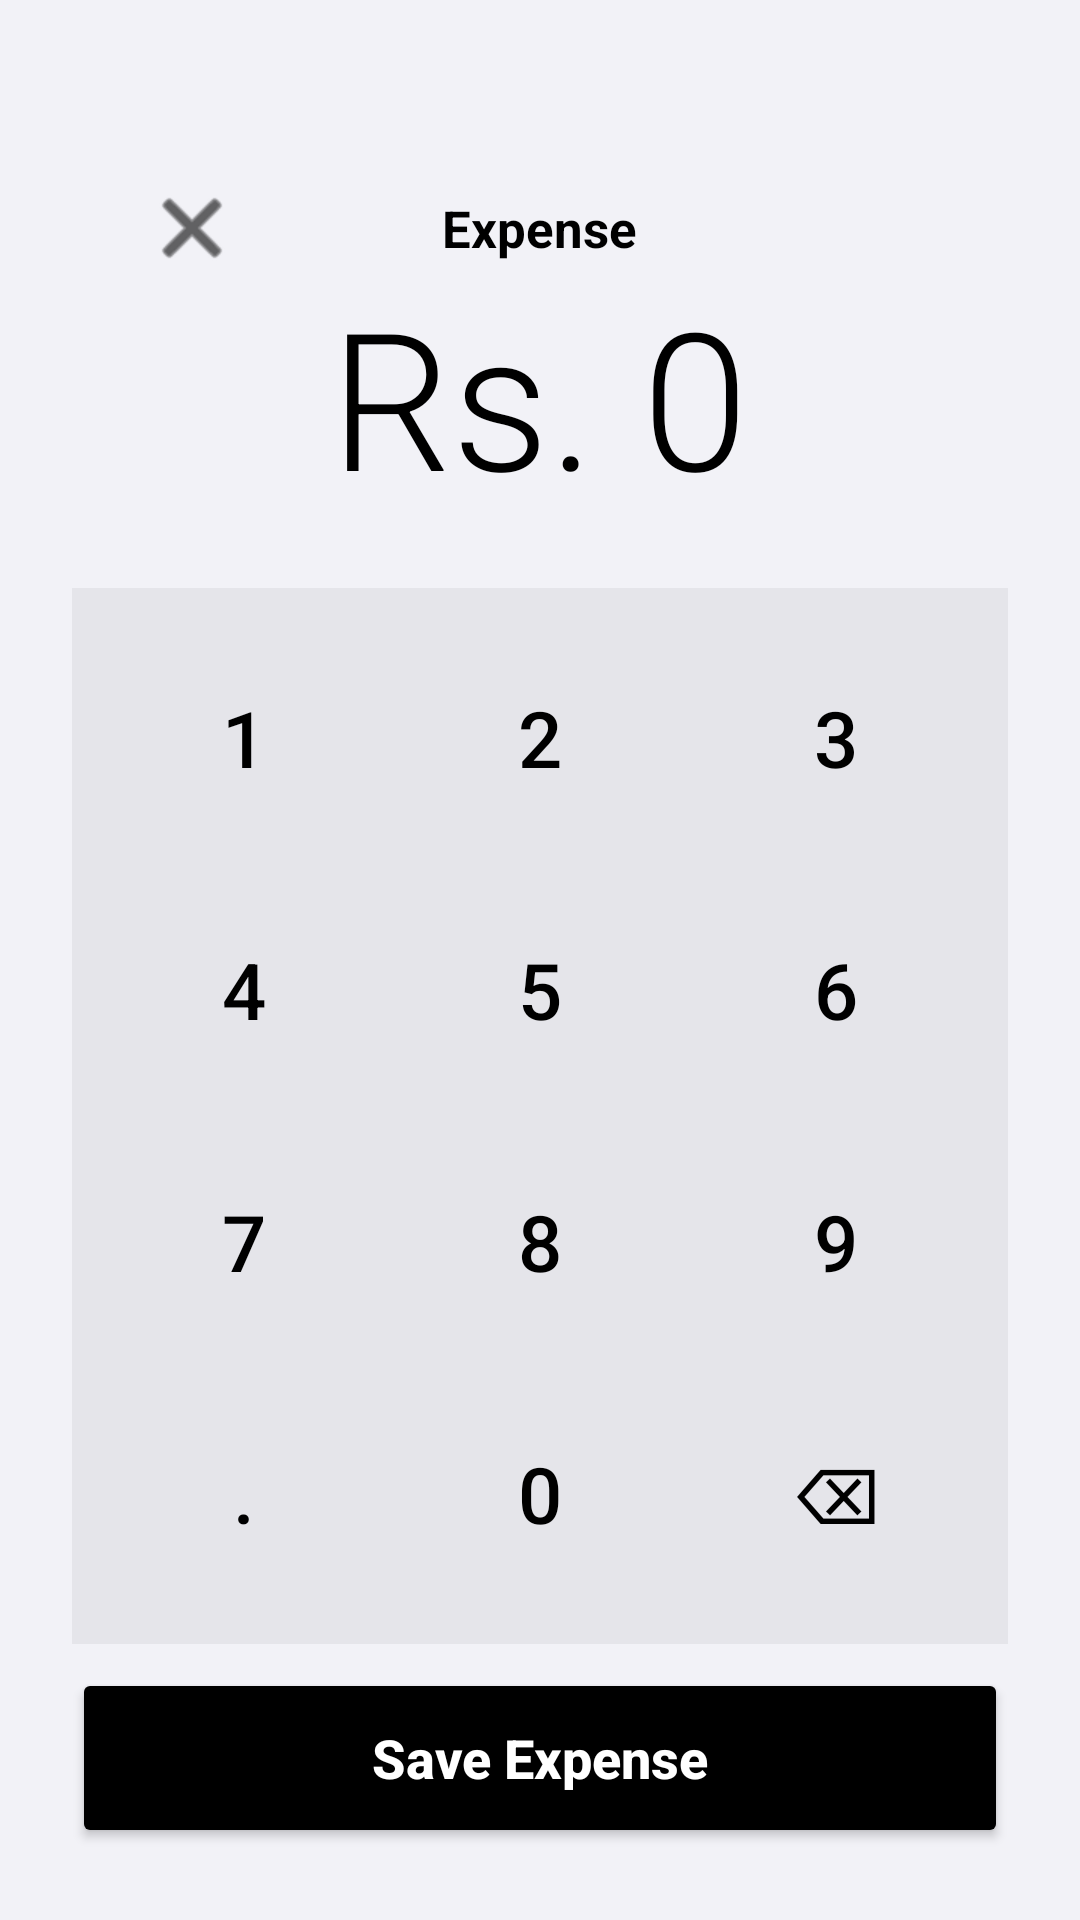

Icons on this 1080px×1920px Android screen, each with its box as rect(x1, y1, x2, y2):
close clear cancel: rect(162, 198, 222, 258)
